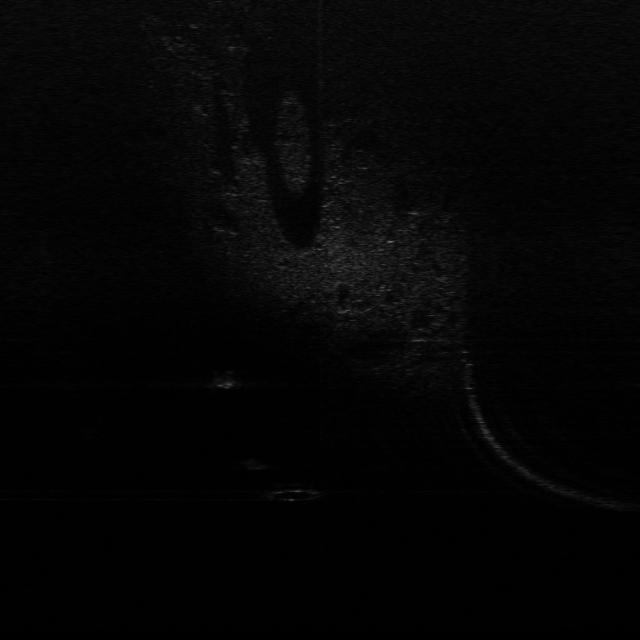cube: (236, 456, 272, 474)
square cage: (203, 368, 246, 390)
tyre: (260, 478, 324, 502)
